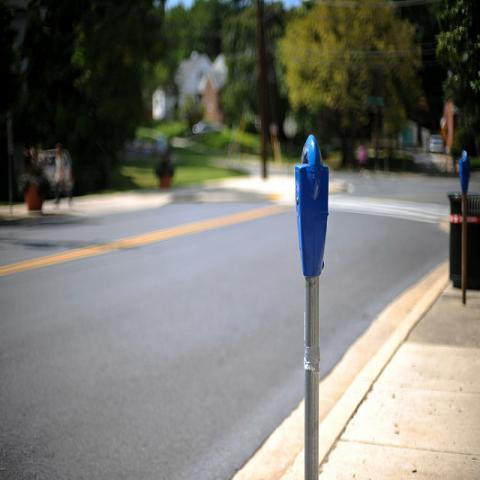car: (122, 132, 168, 164), (44, 150, 74, 197), (427, 134, 446, 154)
